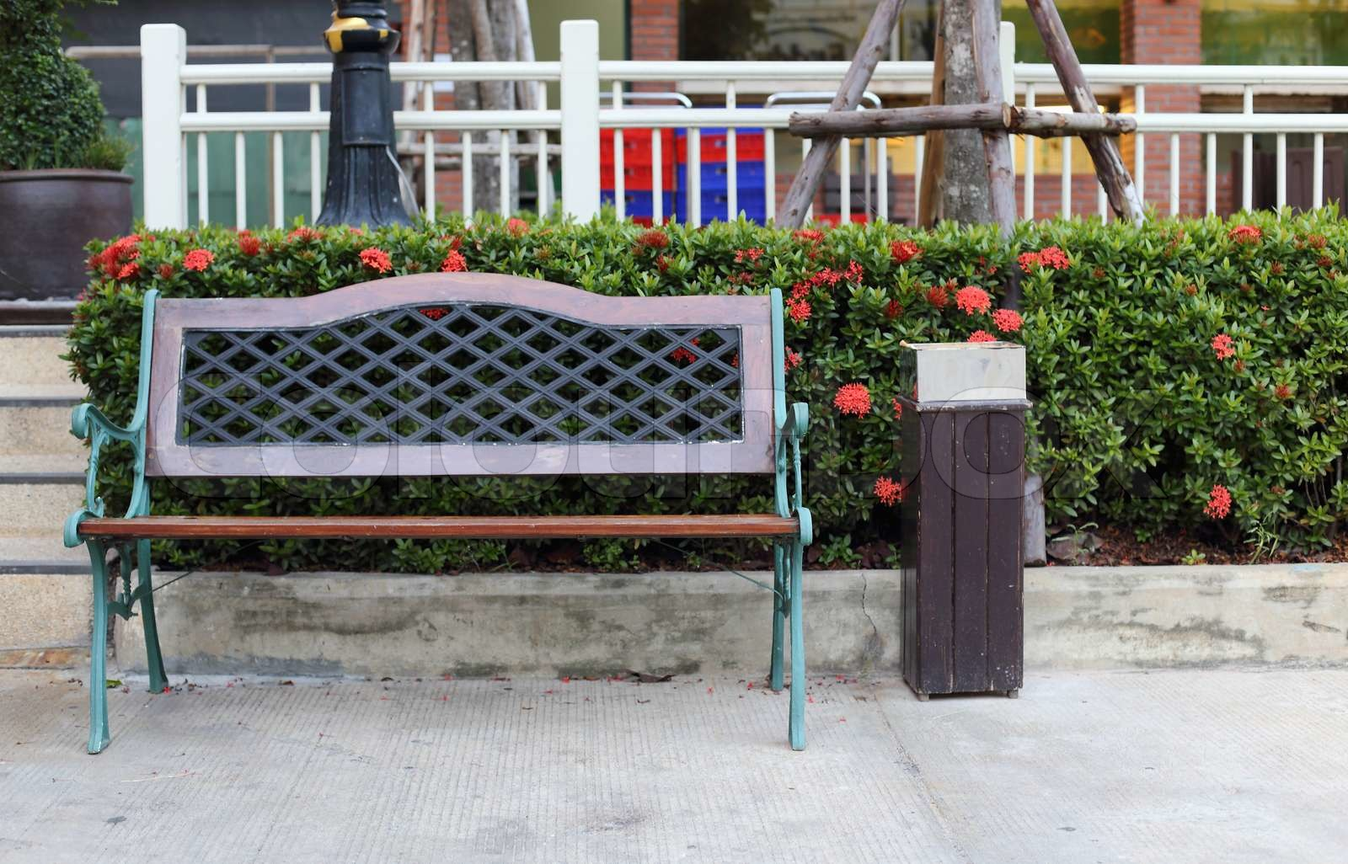Chair: (88, 276, 821, 755)
TrashBin: (896, 332, 1032, 702)
